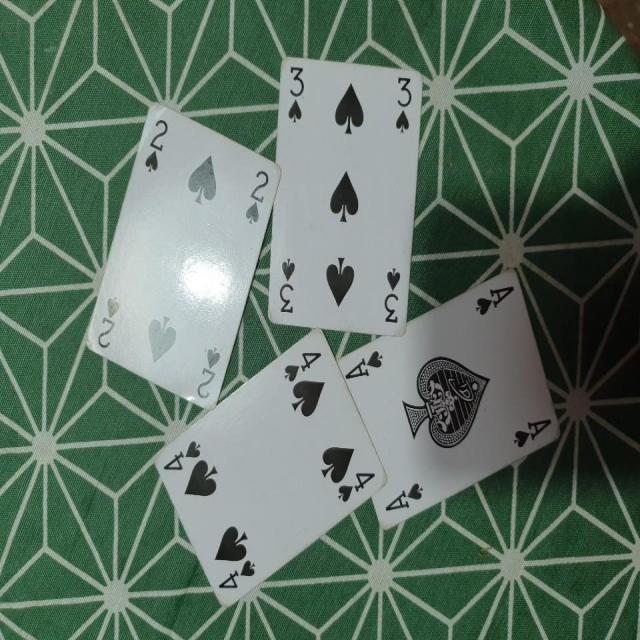2 of spades: (80, 88, 284, 414)
3 of spades: (254, 52, 434, 345)
4 of spades: (151, 322, 377, 612)
ace of spades: (339, 268, 572, 550)
